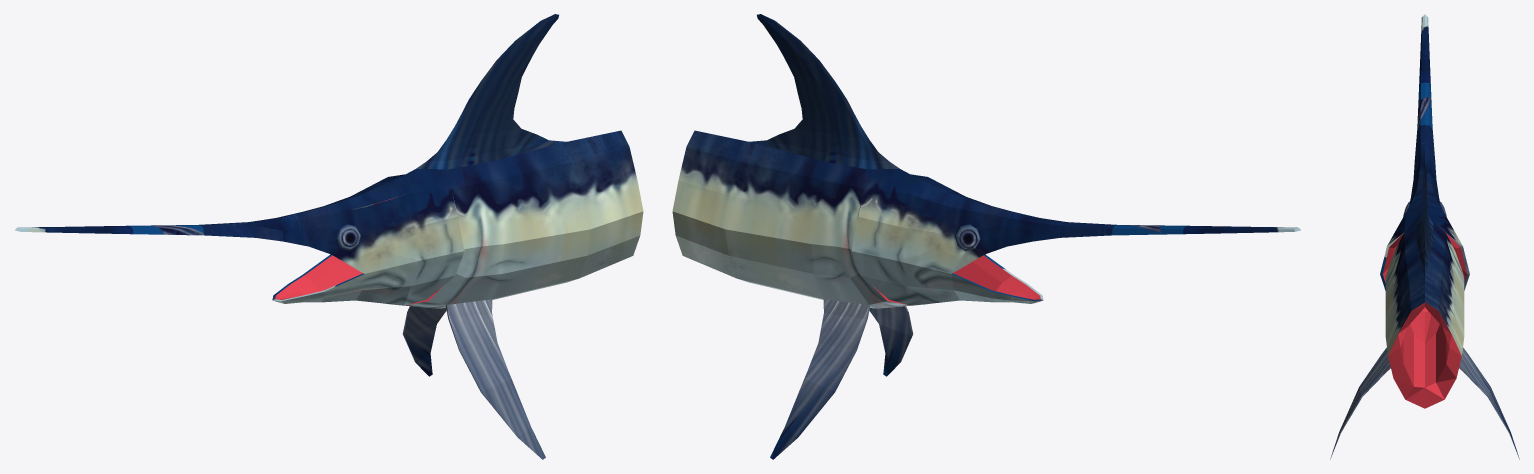
Rendered from swordfishcut.fbx.
3 views of the same model, side by side, from view 1: azimuth 30°, elevation 25°; view 2: azimuth 150°, elevation 25°; view 3: azimuth 270°, elevation 25° (orthographic). The views are drawn at different scales.
Parts seen in each view (by area): view 1: openmouh.001; view 2: openmouh.001; view 3: openmouh.001.
Boxes of the visible parts, box(x1,y1,x2,y2) form: openmouh.001: box(15, 14, 643, 459); openmouh.001: box(672, 14, 1300, 459); openmouh.001: box(1330, 14, 1519, 459).
Size of the model in its own units: 557 by 339 by 180.
